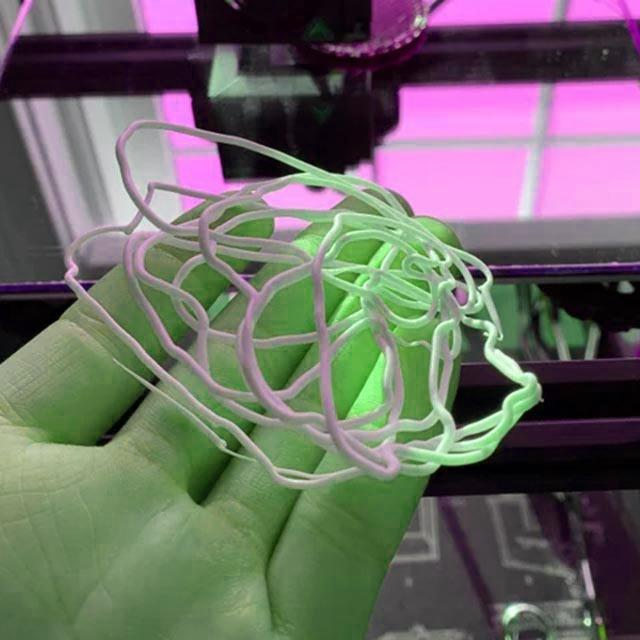Spaghetti: (61, 114, 546, 496)
